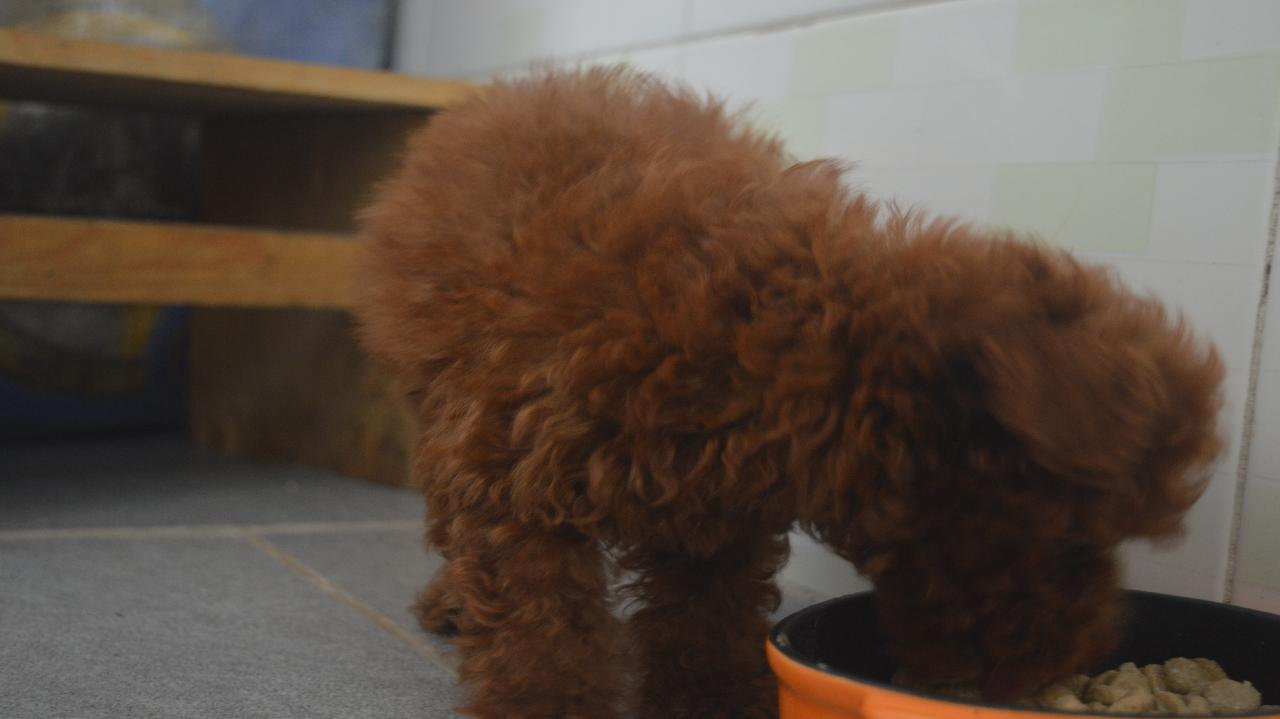coin: (356, 81, 1221, 719)
